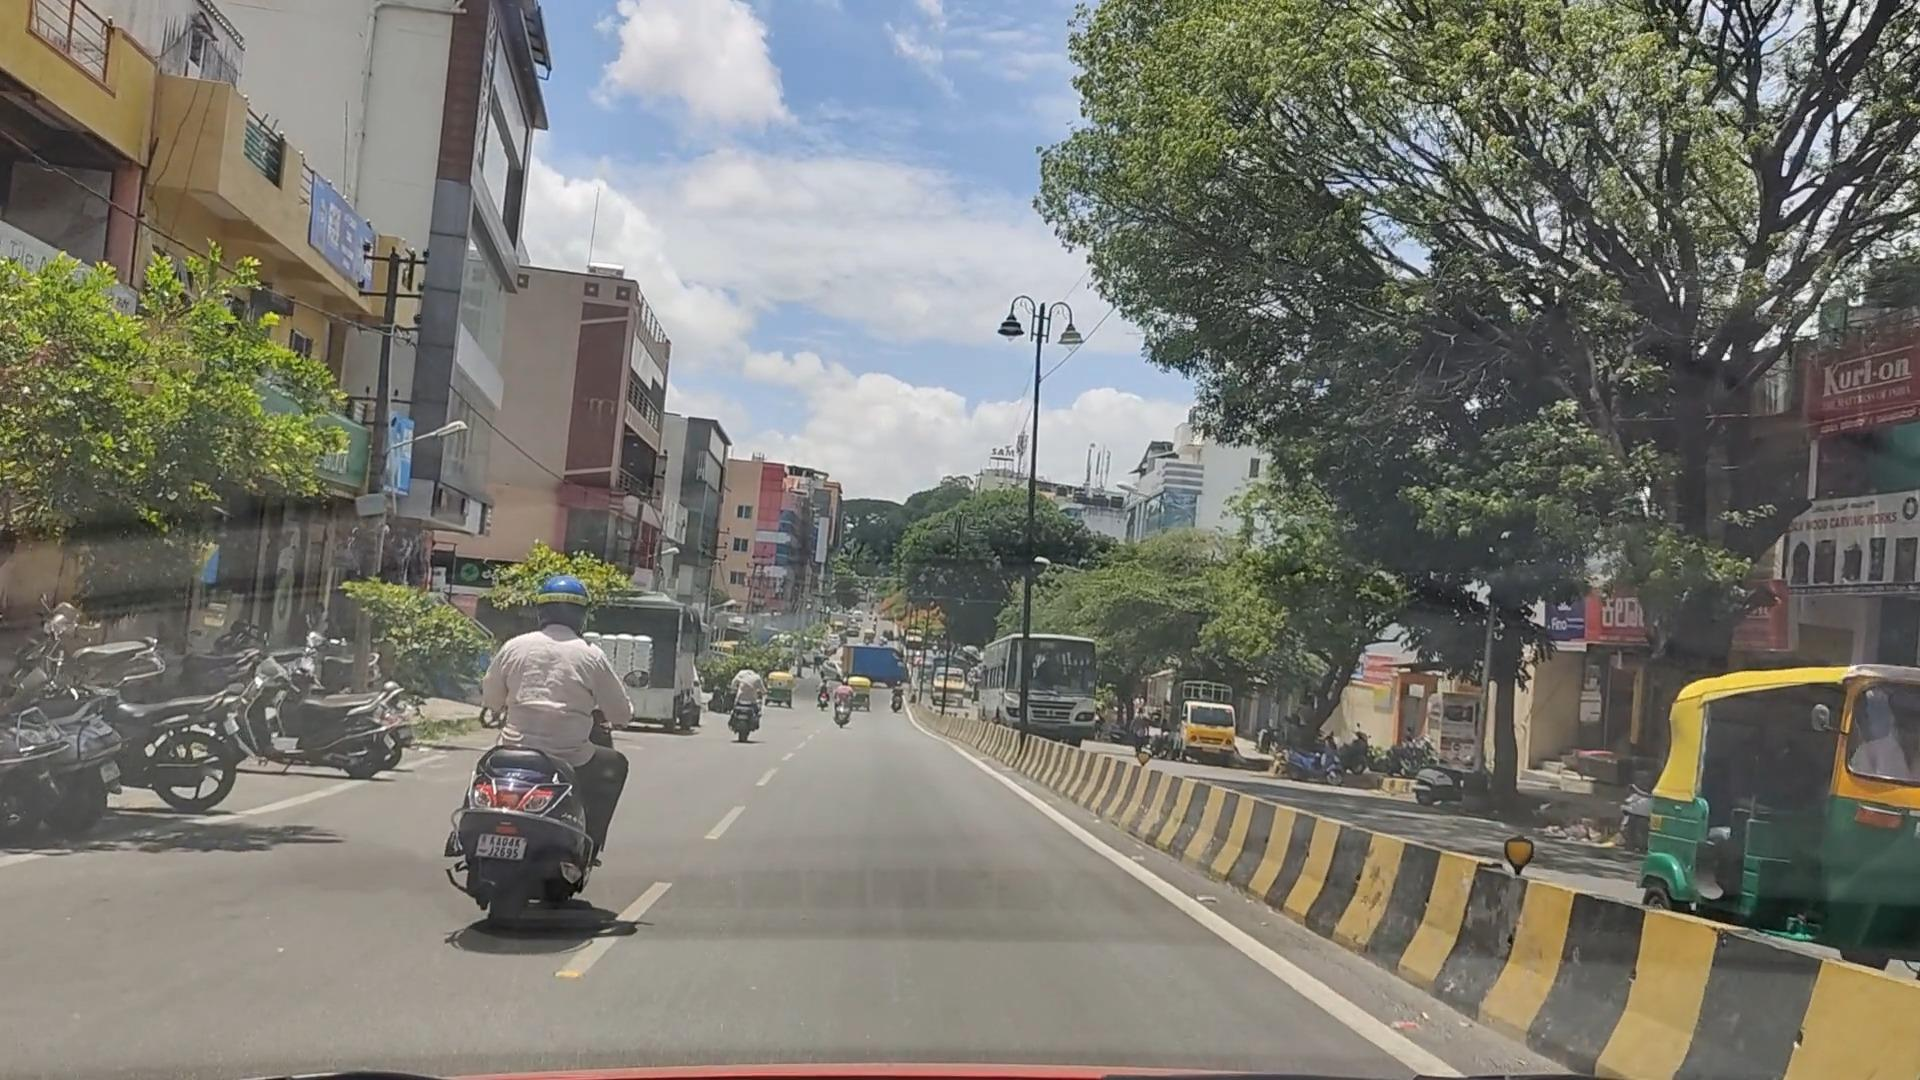LMV: (440, 510, 651, 939)
